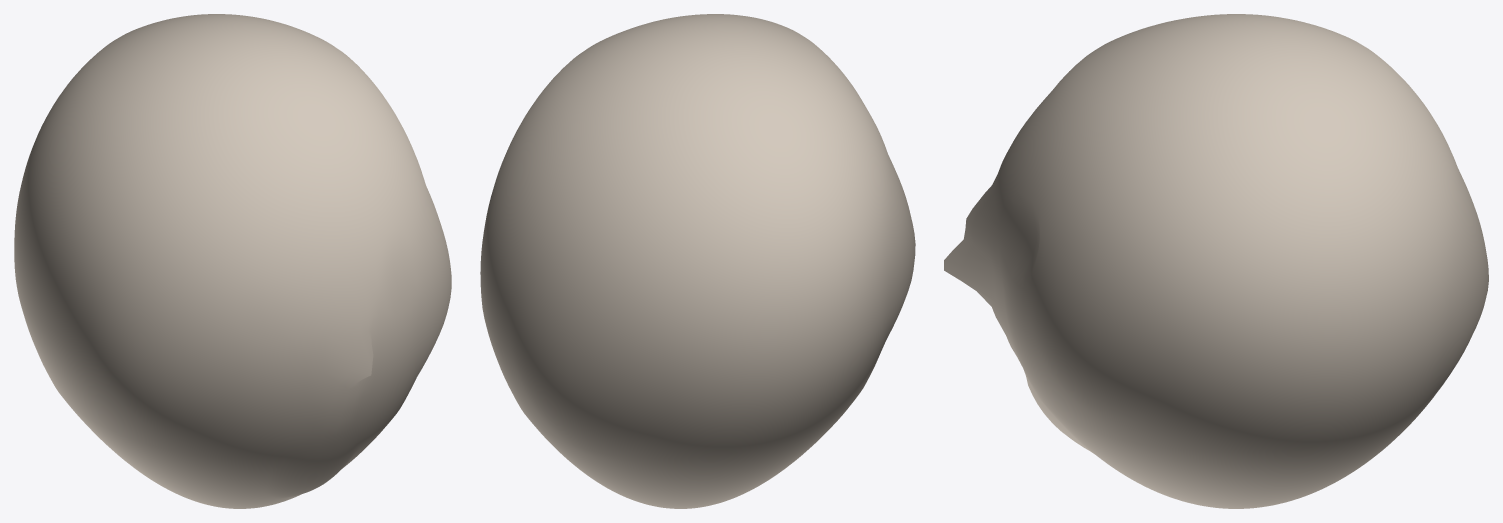
File: head.glb
The picture shows the model from 3 angles, left to right: view 1: azimuth 30°, elevation 25°; view 2: azimuth 150°, elevation 25°; view 3: azimuth 270°, elevation 25°; orthographic projection. The views are drawn at different scales.
Visible parts, largest first — view 1: Head; view 2: Head; view 3: Head.
Part boxes in pixels (box(x1,y1,x2,y2)): Head: box(14, 14, 451, 508); Head: box(480, 14, 915, 508); Head: box(944, 14, 1488, 508).
Size of the model in its own units: 1.93 by 2.43 by 2.59.
